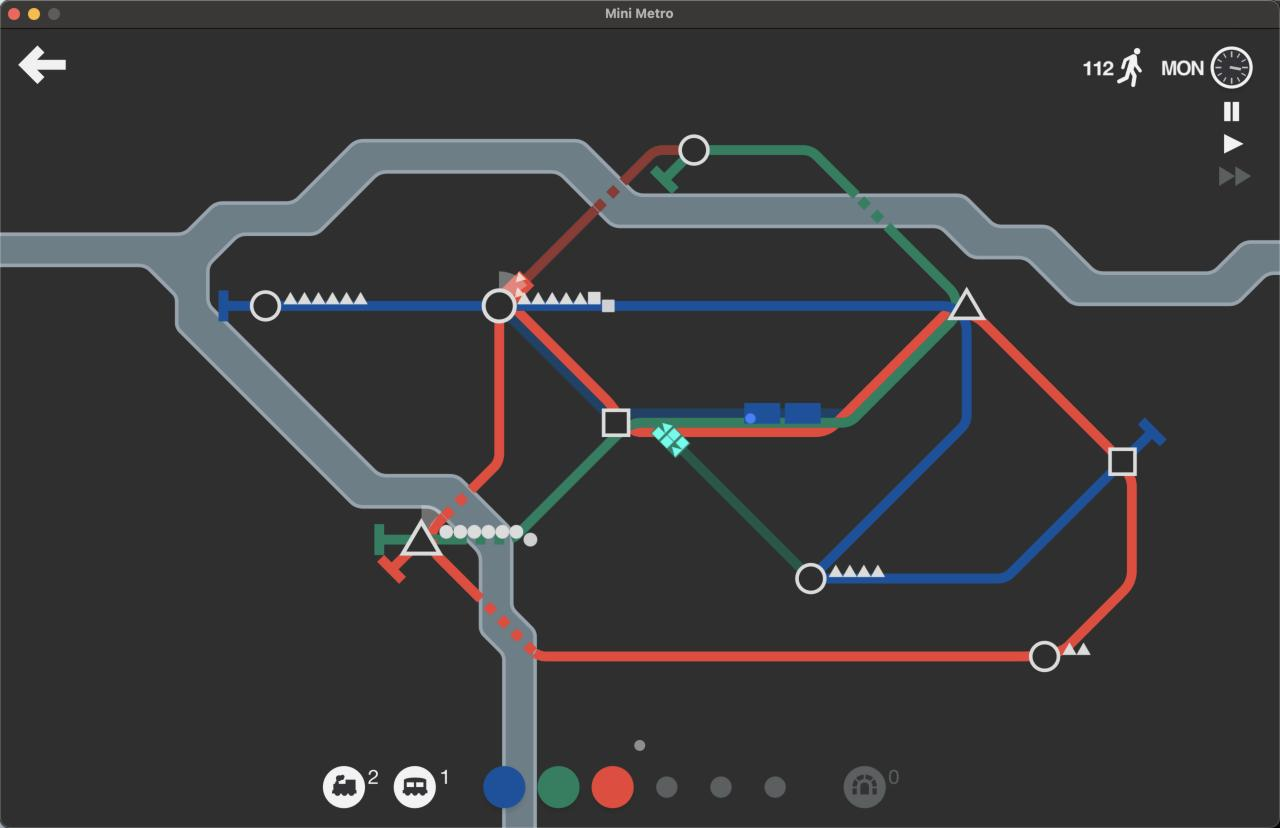CIRCLE: (481, 287, 519, 324), (249, 289, 282, 323), (794, 561, 827, 595), (1028, 640, 1061, 673), (678, 133, 710, 166)
SQUARE: (1108, 446, 1137, 477), (602, 407, 631, 437)
TRIANGLE: (398, 517, 446, 558), (947, 286, 987, 321)
